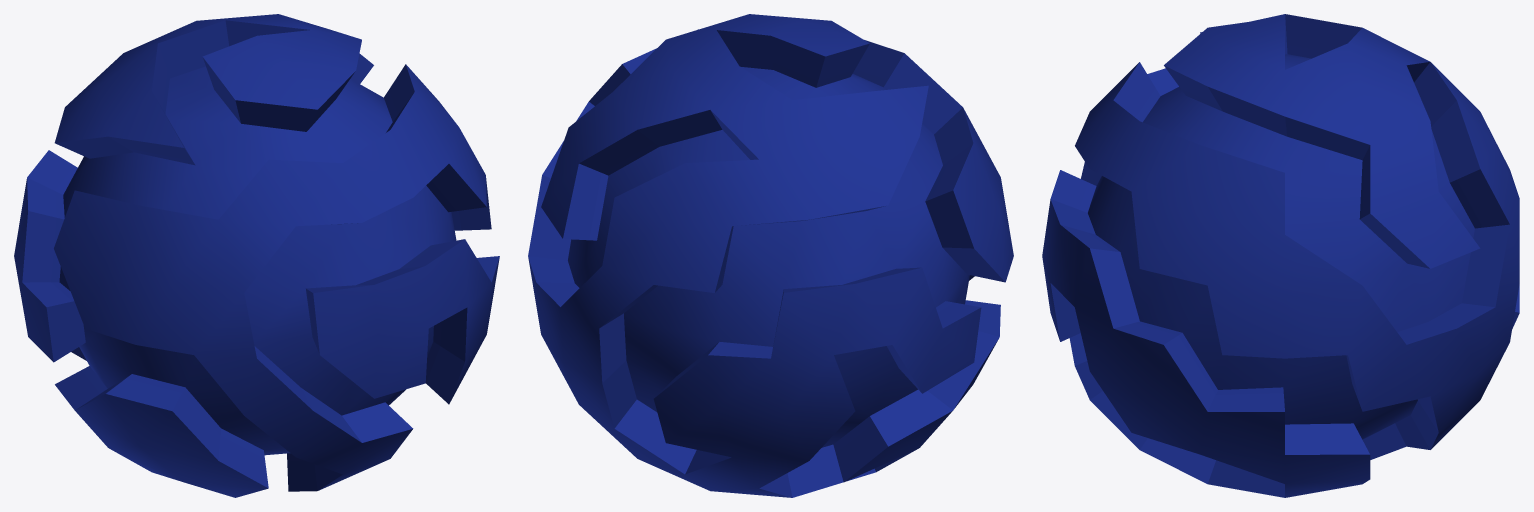
Rendered from testworld_brainmaze.FBX.
3 views of the same model, side by side, from view 1: azimuth 30°, elevation 25°; view 2: azimuth 150°, elevation 25°; view 3: azimuth 270°, elevation 25° (orthographic).
Parts seen in each view (by area): view 1: brainmazeworld; view 2: brainmazeworld; view 3: brainmazeworld.
Boxes of the visible parts, <box> form: brainmazeworld: <box>14,14,499,497</box>; brainmazeworld: <box>528,14,1013,497</box>; brainmazeworld: <box>1042,14,1519,497</box>.
Bounding box in the file's own units: 1685 × 1656 × 1656.
